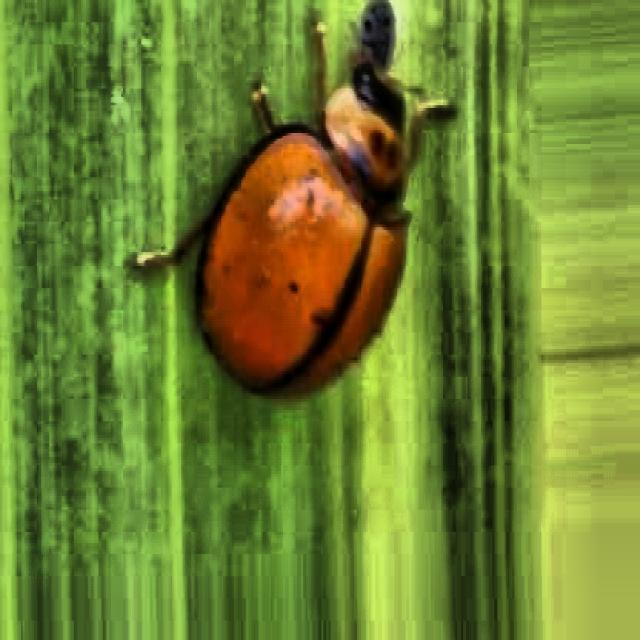Ladybug: (115, 8, 452, 453)
